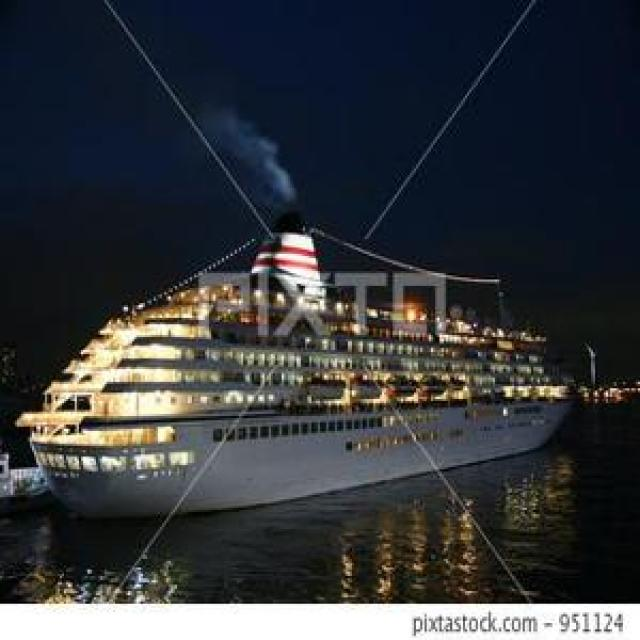passenger ship: (28, 229, 572, 513)
